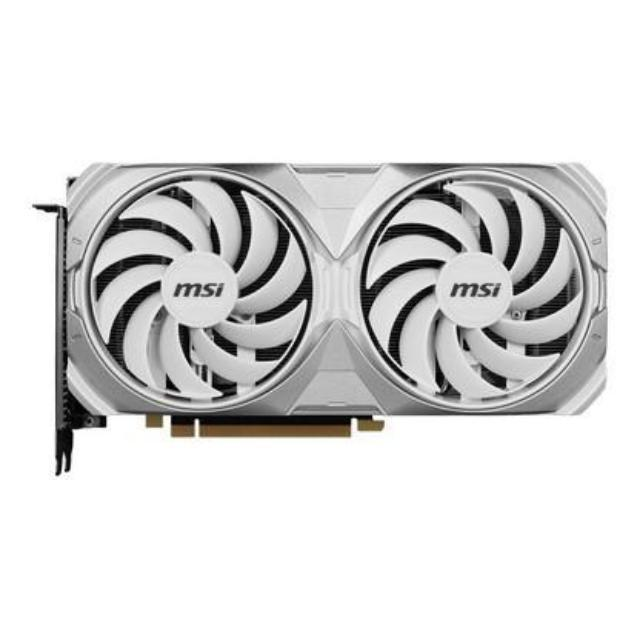GPU: (45, 152, 608, 442)
